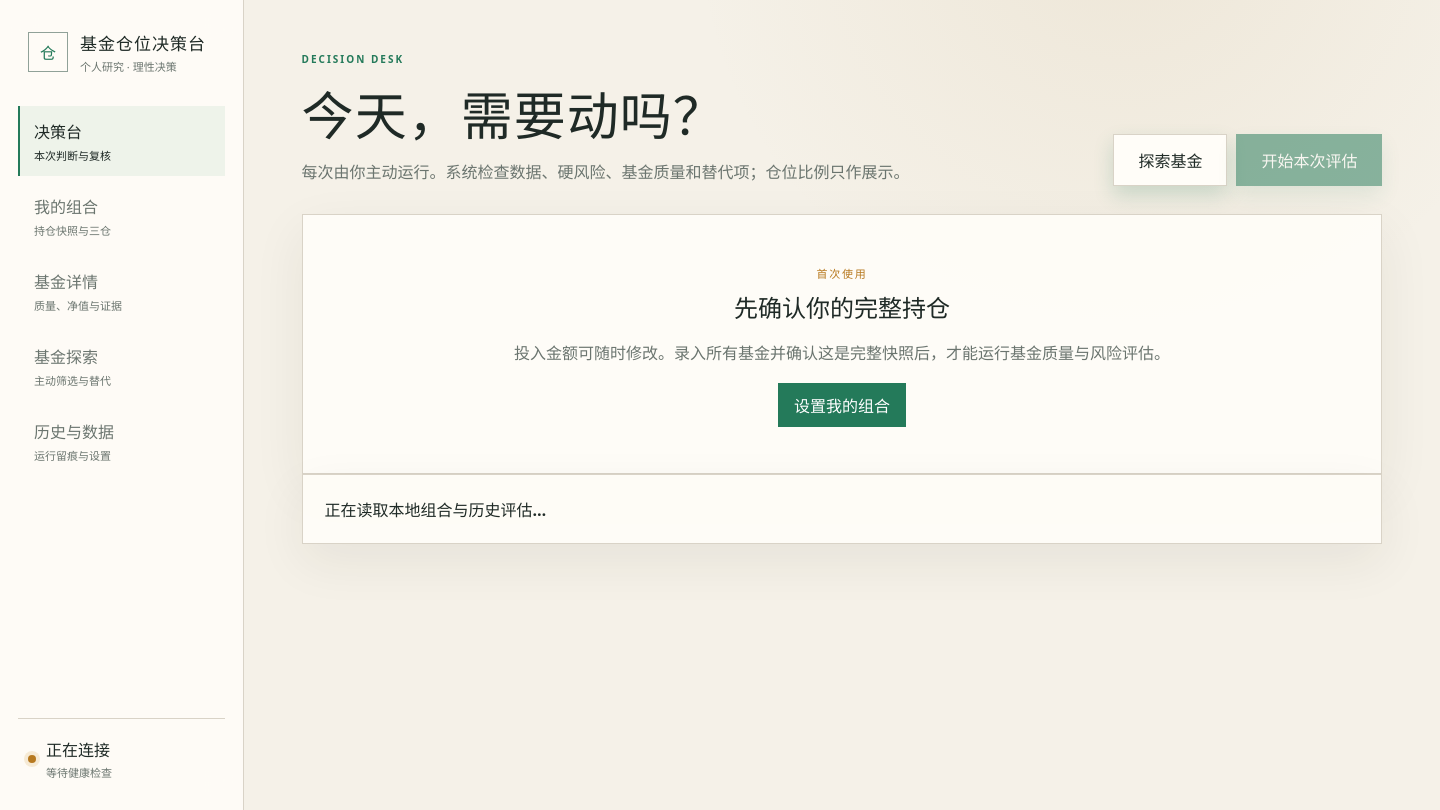
Test: 基金仓位决策台 › shows intuitive percentage and risk metrics on fund detail
Click the link "基金详情 质量、净值与证据": (78, 292) [34,271,122,313]
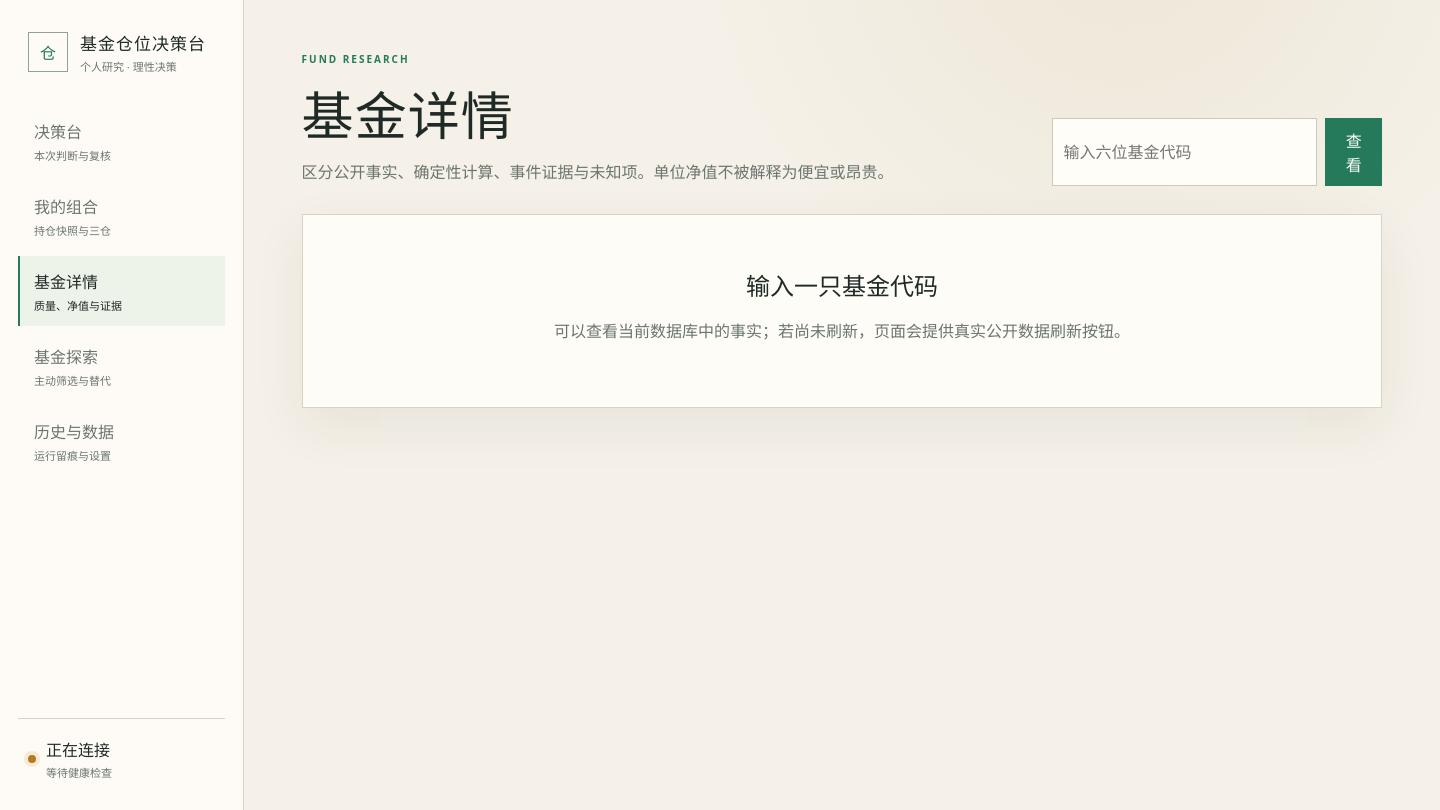
In the field labelled "基金代码": (1185, 152) [1052,118,1317,186], type "017470"
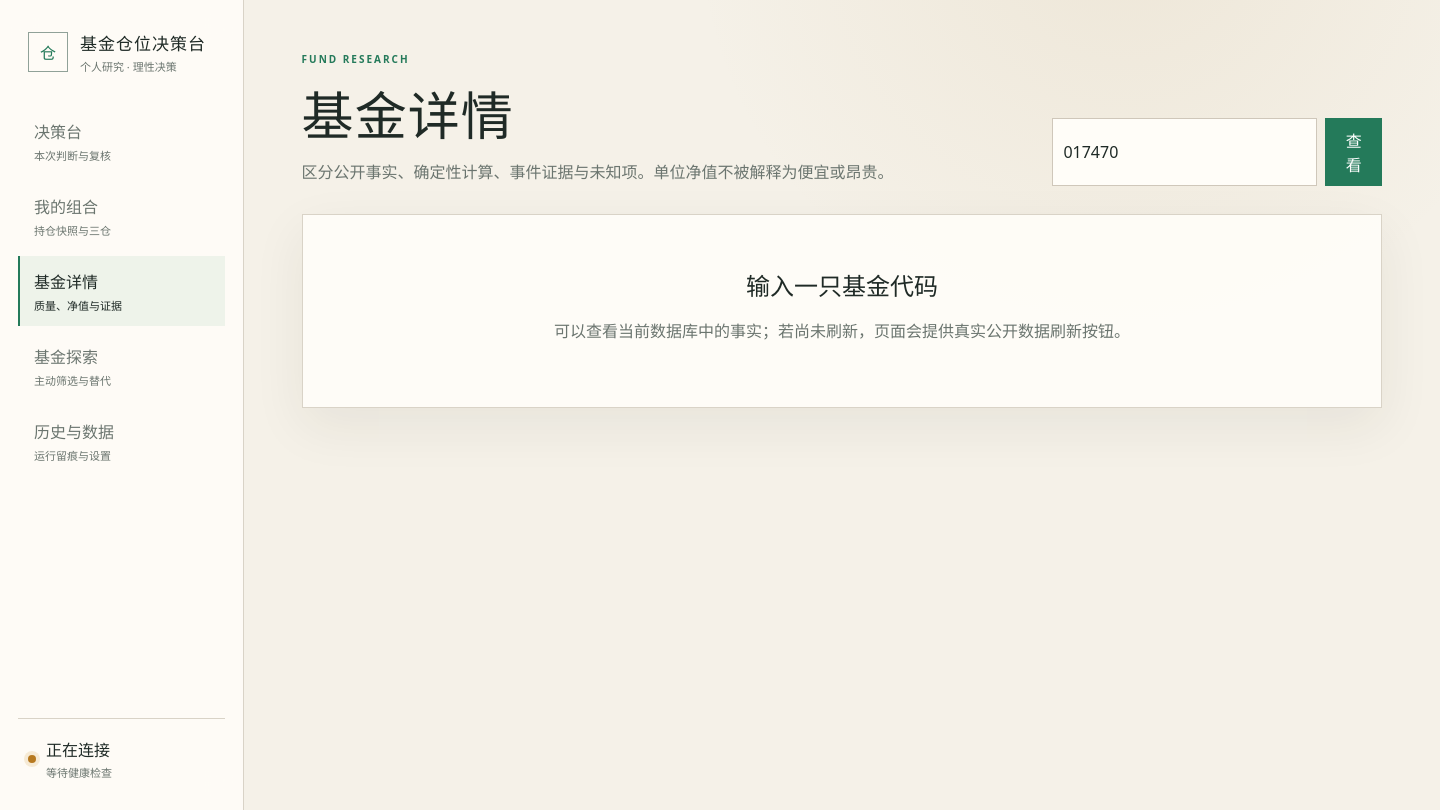
Click the button "查看": (1354, 152) [1325,118,1382,186]
(page scrolled)
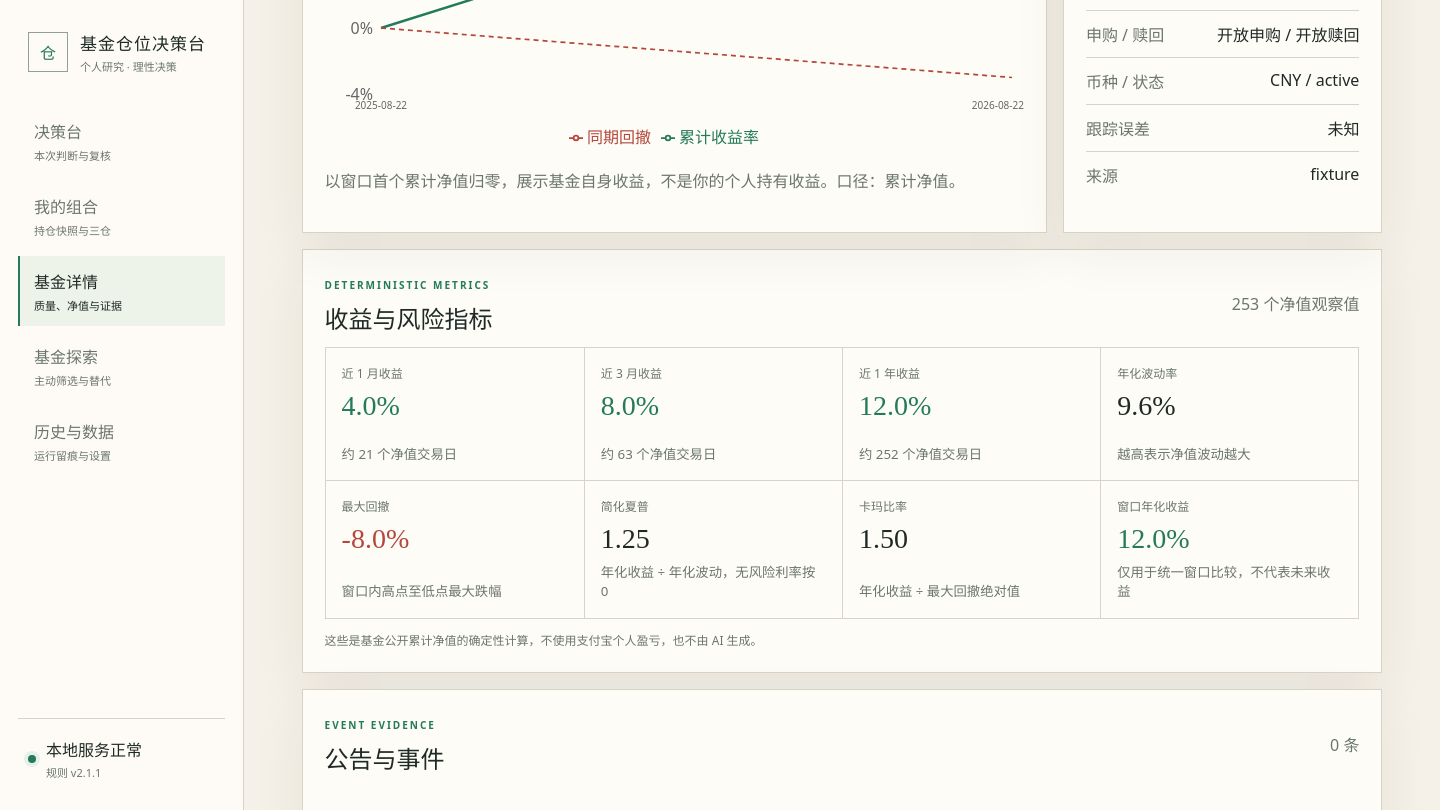
expect the heading "收益与风险指标" is shown: met, box [325,300,493,335]
expect the text "简化夏普" is shown: met, box [601,498,649,515]
expect the text "1.25" is shown: met, box [601,523,650,554]
